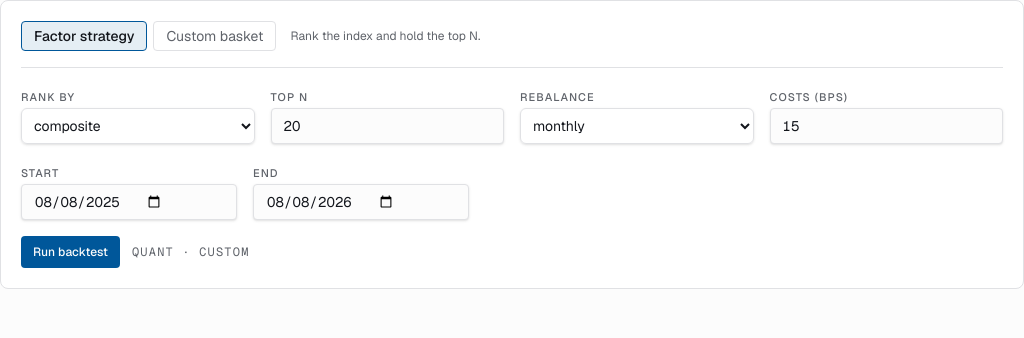
Test: BacktestSetupForm submit › blocks an inverted custom range (quant) before submitting
Type "2099-01-01" into the date field below "Start" at point(129, 202), box [21,184,237,220]
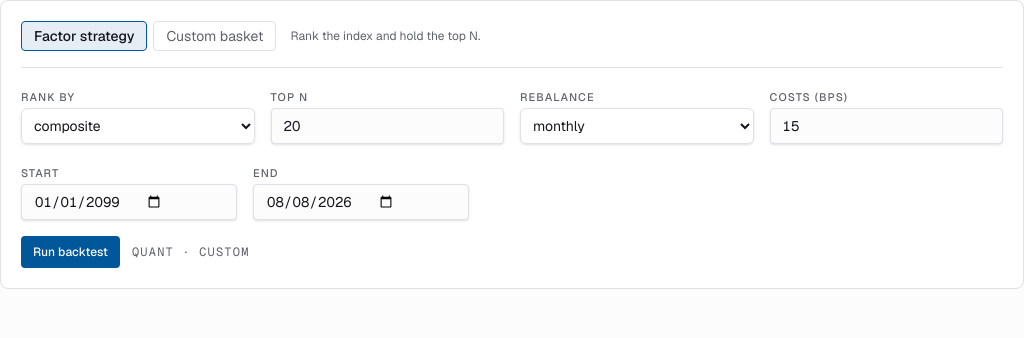
Click the button "Run backtest" at point(70, 252), box [21,236,120,268]
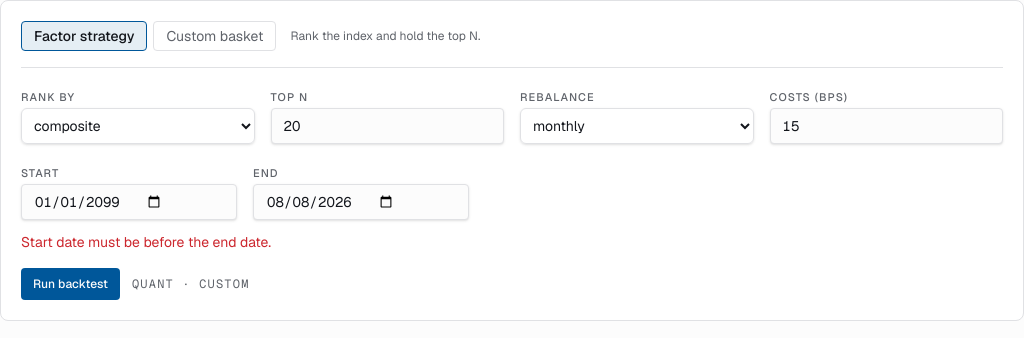
Expected: the text "Start date must be before the end date." is shown, [21,233,271,251]
